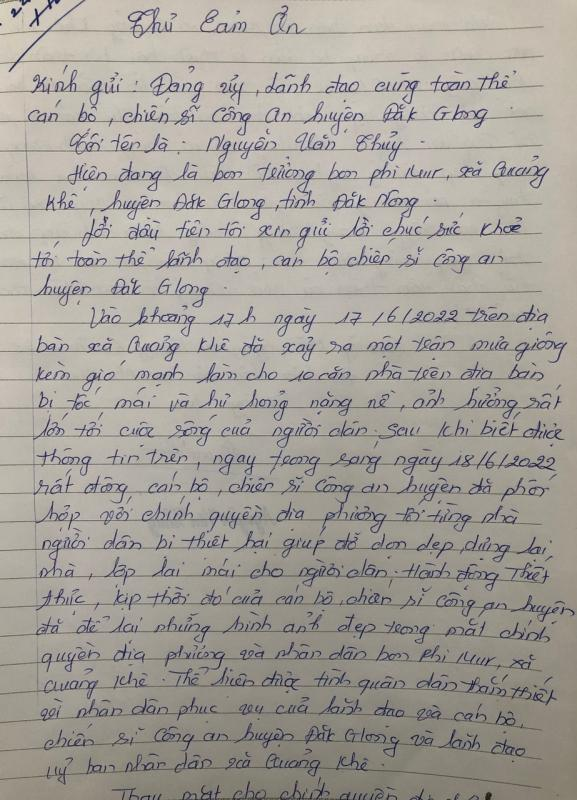text: (42, 666, 561, 709), (28, 61, 519, 106), (36, 584, 577, 624), (42, 720, 530, 764), (38, 553, 553, 594), (38, 383, 567, 422), (32, 469, 557, 508), (32, 411, 568, 449), (34, 610, 556, 649), (40, 526, 556, 564), (39, 696, 527, 736), (26, 96, 494, 137), (33, 331, 571, 366), (87, 297, 550, 336), (39, 638, 538, 674), (34, 442, 562, 476), (34, 500, 521, 536), (33, 359, 547, 393), (31, 242, 506, 278), (66, 157, 552, 192), (78, 217, 526, 247), (40, 187, 421, 221), (44, 748, 373, 784), (69, 128, 407, 161), (110, 779, 497, 800), (121, 1, 308, 40), (33, 270, 212, 310)
